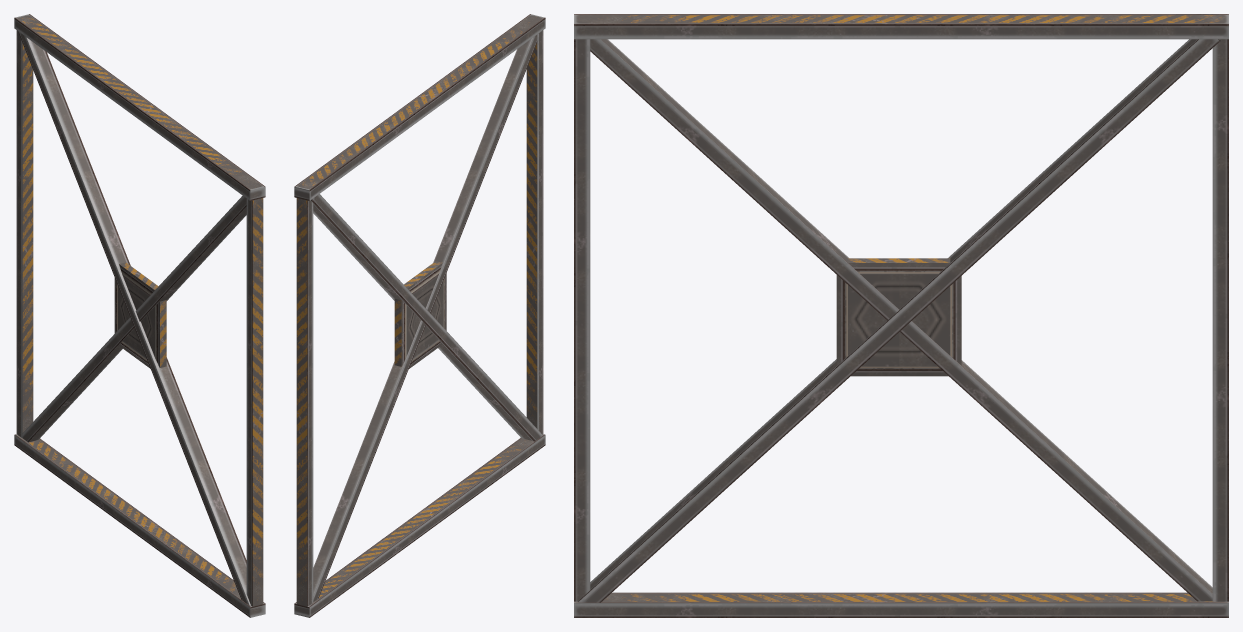
File: SM_ENV_GRADE_4m.fbx
3 renders of one model, left to right at view 1: azimuth 30°, elevation 25°; view 2: azimuth 150°, elevation 25°; view 3: azimuth 270°, elevation 25°, orthographic. The views are drawn at different scales.
Parts seen in each view (by area): view 1: SM_ENV_GRADE_4m; view 2: SM_ENV_GRADE_4m; view 3: SM_ENV_GRADE_4m.
Boxes of the visible parts, bbox=[...] form: SM_ENV_GRADE_4m: bbox=[14, 14, 265, 617]; SM_ENV_GRADE_4m: bbox=[294, 14, 545, 617]; SM_ENV_GRADE_4m: bbox=[574, 14, 1228, 617].
Bounding box in the file's own units: 0.15 × 4 × 4.
